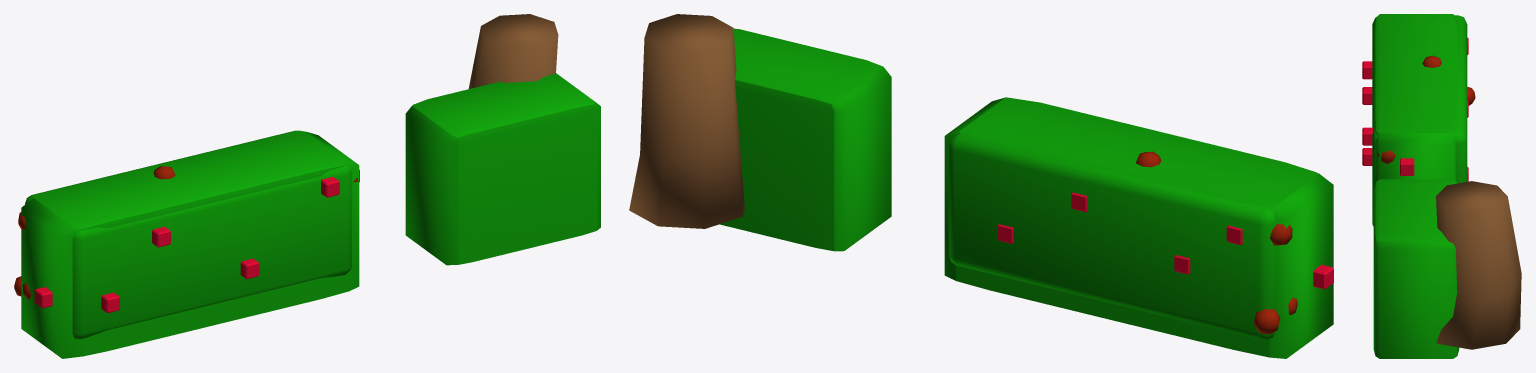
File: Arbusto 3.fbx
3 views of the same model, side by side, from view 1: azimuth 30°, elevation 25°; view 2: azimuth 150°, elevation 25°; view 3: azimuth 270°, elevation 25° (orthographic). The views are drawn at different scales.
Parts seen in each view (by area): view 1: Cube.016, Cube.059, Cube.033, Cylinder.005; view 2: Cube.059, Cube.033, Cube.016, Cylinder.005; view 3: Cube.016, Cube.033, Cylinder.005, Cube.059, Cube.058, Cube.044, Cube.060, Cube.061, Cube.062, Cube.059|Cube.079|Dupli|4, Cube.059|Cube.079|Dupli|6.
Part boxes in pixels (bbox=[...]): Cube.016: bbox=[405, 73, 600, 265]; Cube.059: bbox=[25, 130, 351, 339]; Cube.033: bbox=[21, 131, 359, 358]; Cylinder.005: bbox=[468, 14, 558, 88]; Cube.059: bbox=[949, 133, 1276, 339]; Cube.033: bbox=[944, 97, 1333, 358]; Cube.016: bbox=[720, 28, 891, 251]; Cylinder.005: bbox=[629, 14, 744, 228]; Cube.016: bbox=[1373, 179, 1459, 358]; Cube.033: bbox=[1374, 14, 1456, 181]; Cylinder.005: bbox=[1436, 181, 1521, 349]; Cube.059: bbox=[1372, 15, 1467, 226]; Cube.058: bbox=[1400, 158, 1414, 175]; Cube.044: bbox=[1362, 127, 1372, 145]; Cube.060: bbox=[1362, 61, 1372, 79]; Cube.061: bbox=[1362, 148, 1372, 165]; Cube.062: bbox=[1362, 87, 1372, 104]; Cube.059|Cube.079|Dupli|4: bbox=[1422, 55, 1441, 67]; Cube.059|Cube.079|Dupli|6: bbox=[1377, 150, 1395, 163].
Size of the model in its own units: 366 by 103 by 99.64.
